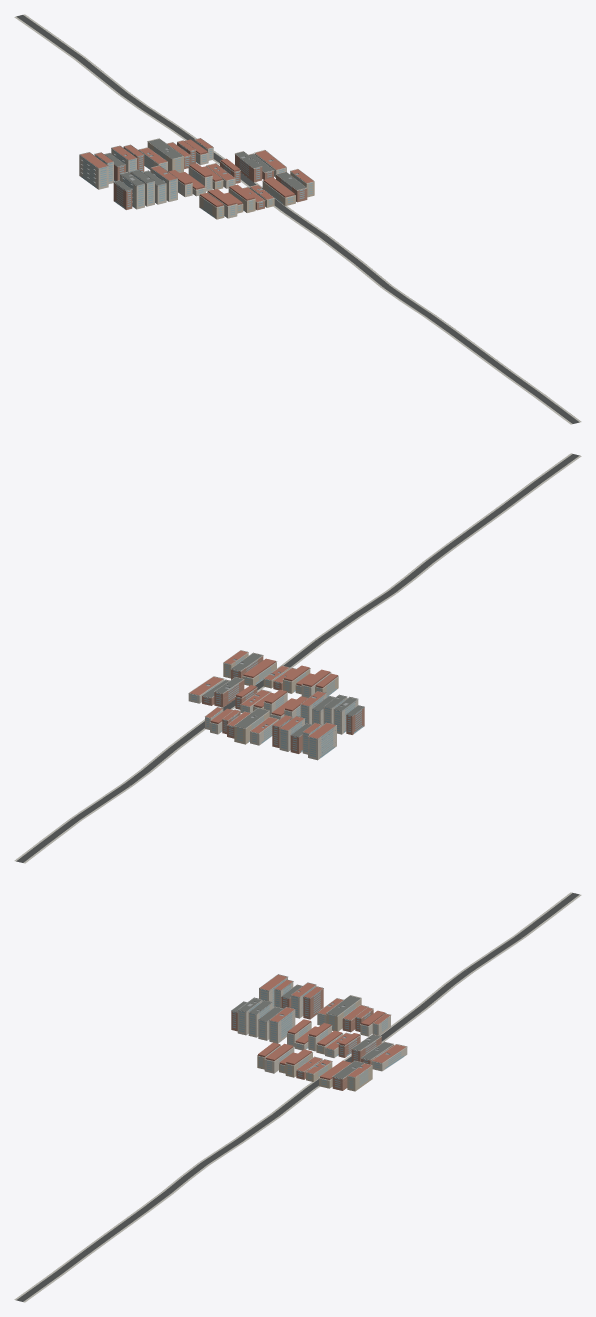
Rendered from tile-m003-p000.glb.
The picture shows the model from 3 angles, top to bottom: view 1: azimuth 30°, elevation 25°; view 2: azimuth 150°, elevation 25°; view 3: azimuth 330°, elevation 25°; orthographic projection.
Parts seen in each view (by area): view 1: road-v-2-mesh-1, road-v-2-mesh-0, building-0041-mesh-34; view 2: road-v-2-mesh-1, road-v-2-mesh-0, building-0041-mesh-34; view 3: road-v-2-mesh-1, road-v-2-mesh-0.
Boxes of the visible parts, bbox=[...] form: road-v-2-mesh-1: bbox=[16, 15, 579, 423]; road-v-2-mesh-0: bbox=[14, 14, 581, 424]; building-0041-mesh-34: bbox=[79, 155, 108, 189]; road-v-2-mesh-1: bbox=[16, 454, 579, 862]; road-v-2-mesh-0: bbox=[14, 453, 581, 863]; building-0041-mesh-34: bbox=[308, 725, 336, 760]; road-v-2-mesh-1: bbox=[16, 893, 579, 1301]; road-v-2-mesh-0: bbox=[14, 892, 581, 1302].
Bounding box in the file's own units: 263 × 38.6 × 1600.
